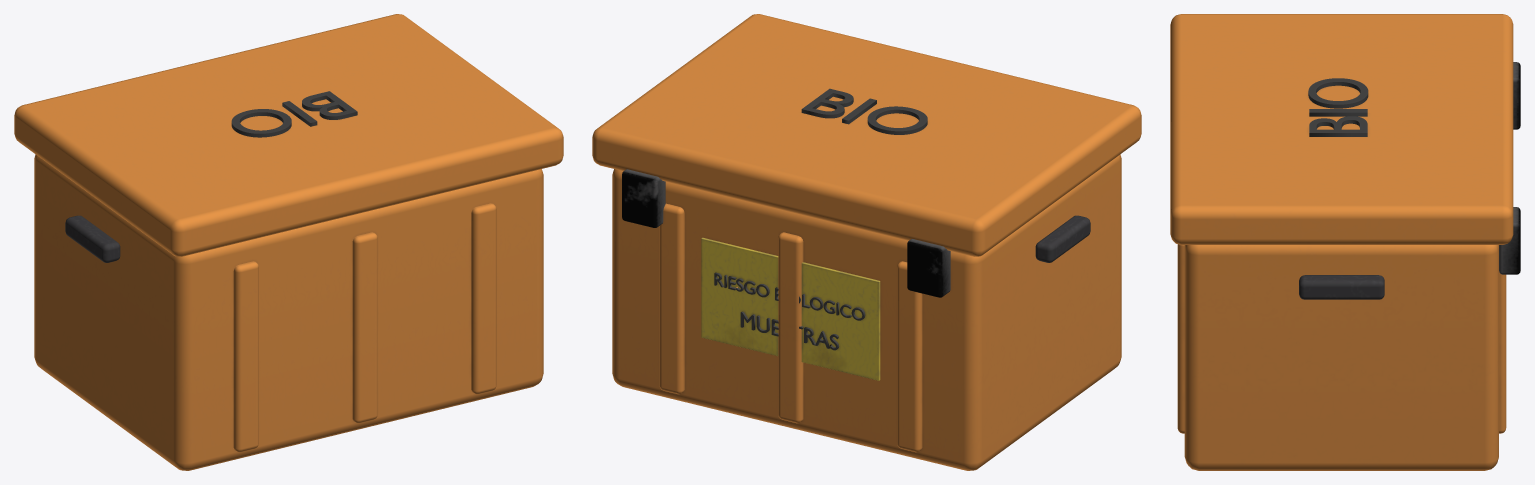
Rendered from caja_biopeligro.glb.
The picture shows the model from 3 angles, left to right: view 1: azimuth 30°, elevation 25°; view 2: azimuth 150°, elevation 25°; view 3: azimuth 270°, elevation 25°; orthographic projection. The views are drawn at different scales.
Visible parts, largest first — view 1: caja_biopeligro; view 2: caja_biopeligro; view 3: caja_biopeligro.
Part boxes in pixels (x1,y1,x2,y2): caja_biopeligro: (14,14,563,470); caja_biopeligro: (592,14,1141,470); caja_biopeligro: (1170,14,1520,470).
Size of the model in its own units: 0.69 by 0.426 by 0.49.
Materials: 1 (1 with a texture image).
